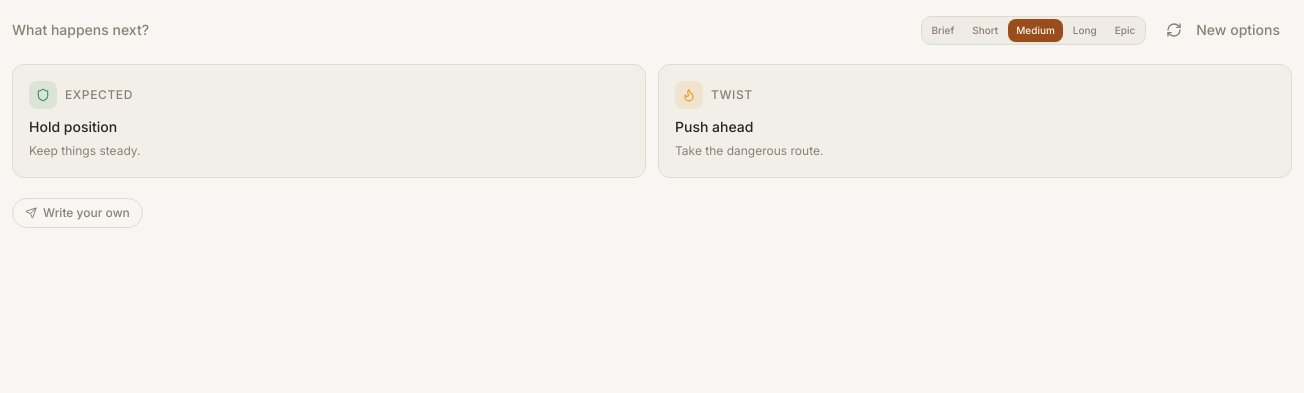
Test: ChoiceCards › keeps the existing custom direction flow intact
This screenshot has width=1304, height=393.
Step 1. Click the button "Write your own" → (77, 212), box [12, 198, 143, 228]
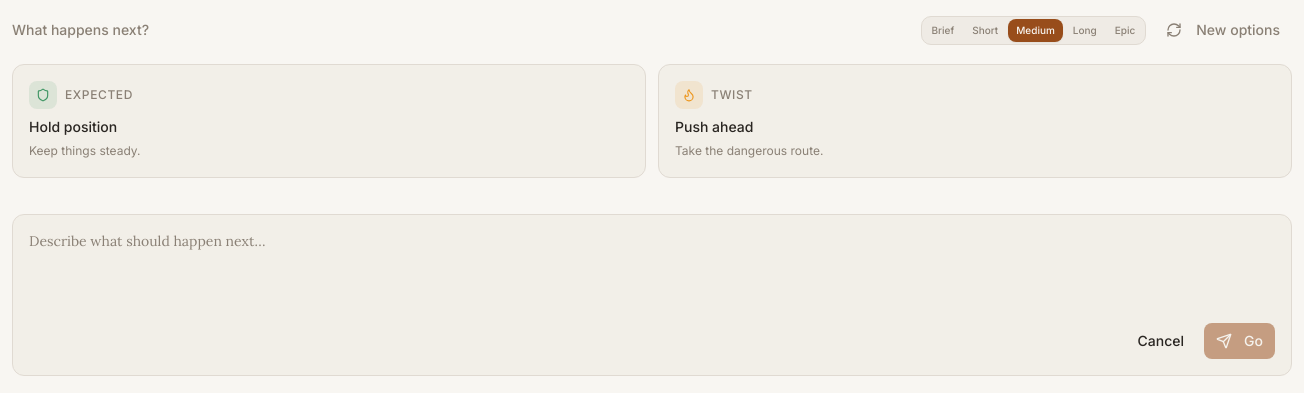
Expected: the button "Go" is disabled, [1204, 322, 1275, 358]
